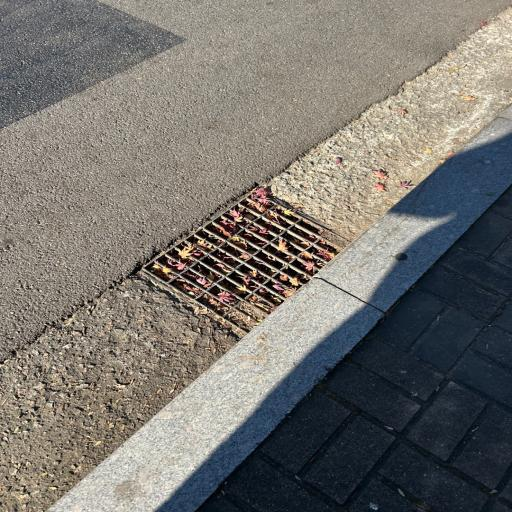debris: (176, 277, 201, 298), (251, 188, 273, 211), (202, 296, 228, 313), (187, 271, 211, 288), (149, 264, 173, 280), (258, 289, 282, 305), (300, 252, 324, 267), (250, 296, 272, 312), (181, 244, 204, 258), (218, 252, 239, 267), (200, 267, 219, 282), (230, 210, 248, 225), (218, 291, 237, 305), (165, 259, 185, 272), (173, 252, 193, 265), (243, 233, 264, 245), (272, 285, 294, 296), (249, 225, 269, 237), (268, 212, 285, 226), (239, 206, 257, 219), (289, 237, 310, 248), (193, 240, 213, 251), (279, 274, 297, 286), (220, 219, 238, 231), (243, 275, 259, 288), (315, 250, 333, 260), (231, 237, 246, 248), (260, 263, 275, 274), (301, 231, 317, 241), (279, 239, 290, 252), (217, 226, 231, 236), (235, 286, 249, 295), (263, 254, 277, 263), (303, 261, 315, 271), (279, 207, 292, 215), (212, 236, 222, 246), (218, 265, 231, 272), (320, 240, 329, 249), (249, 270, 257, 278), (239, 253, 250, 258)
drain: (140, 187, 352, 335)
